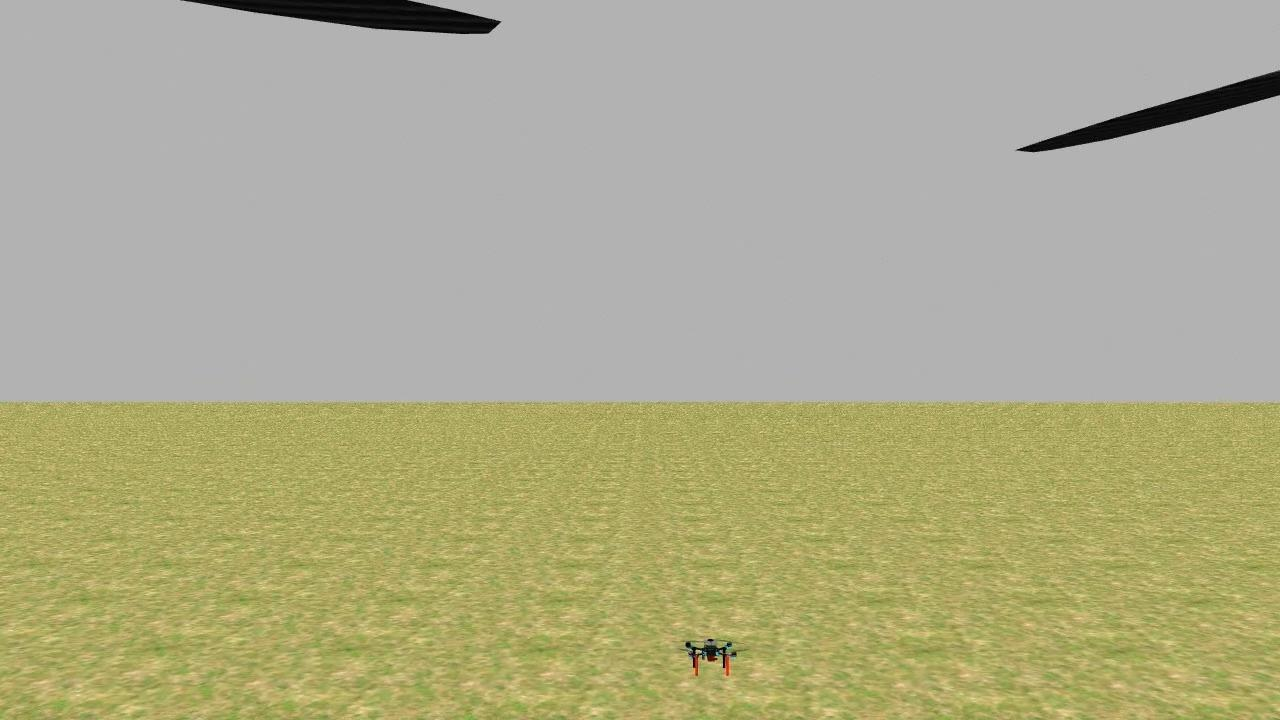UAV: (652, 618, 768, 693)
